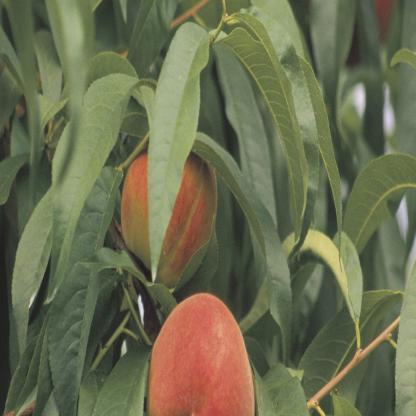Peach leaf: (185, 124, 295, 368), (46, 66, 143, 312), (143, 21, 218, 290), (218, 15, 312, 228), (58, 163, 122, 413), (338, 144, 414, 263)
